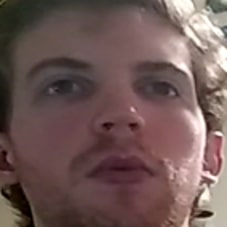awake: (24, 46, 194, 204)
